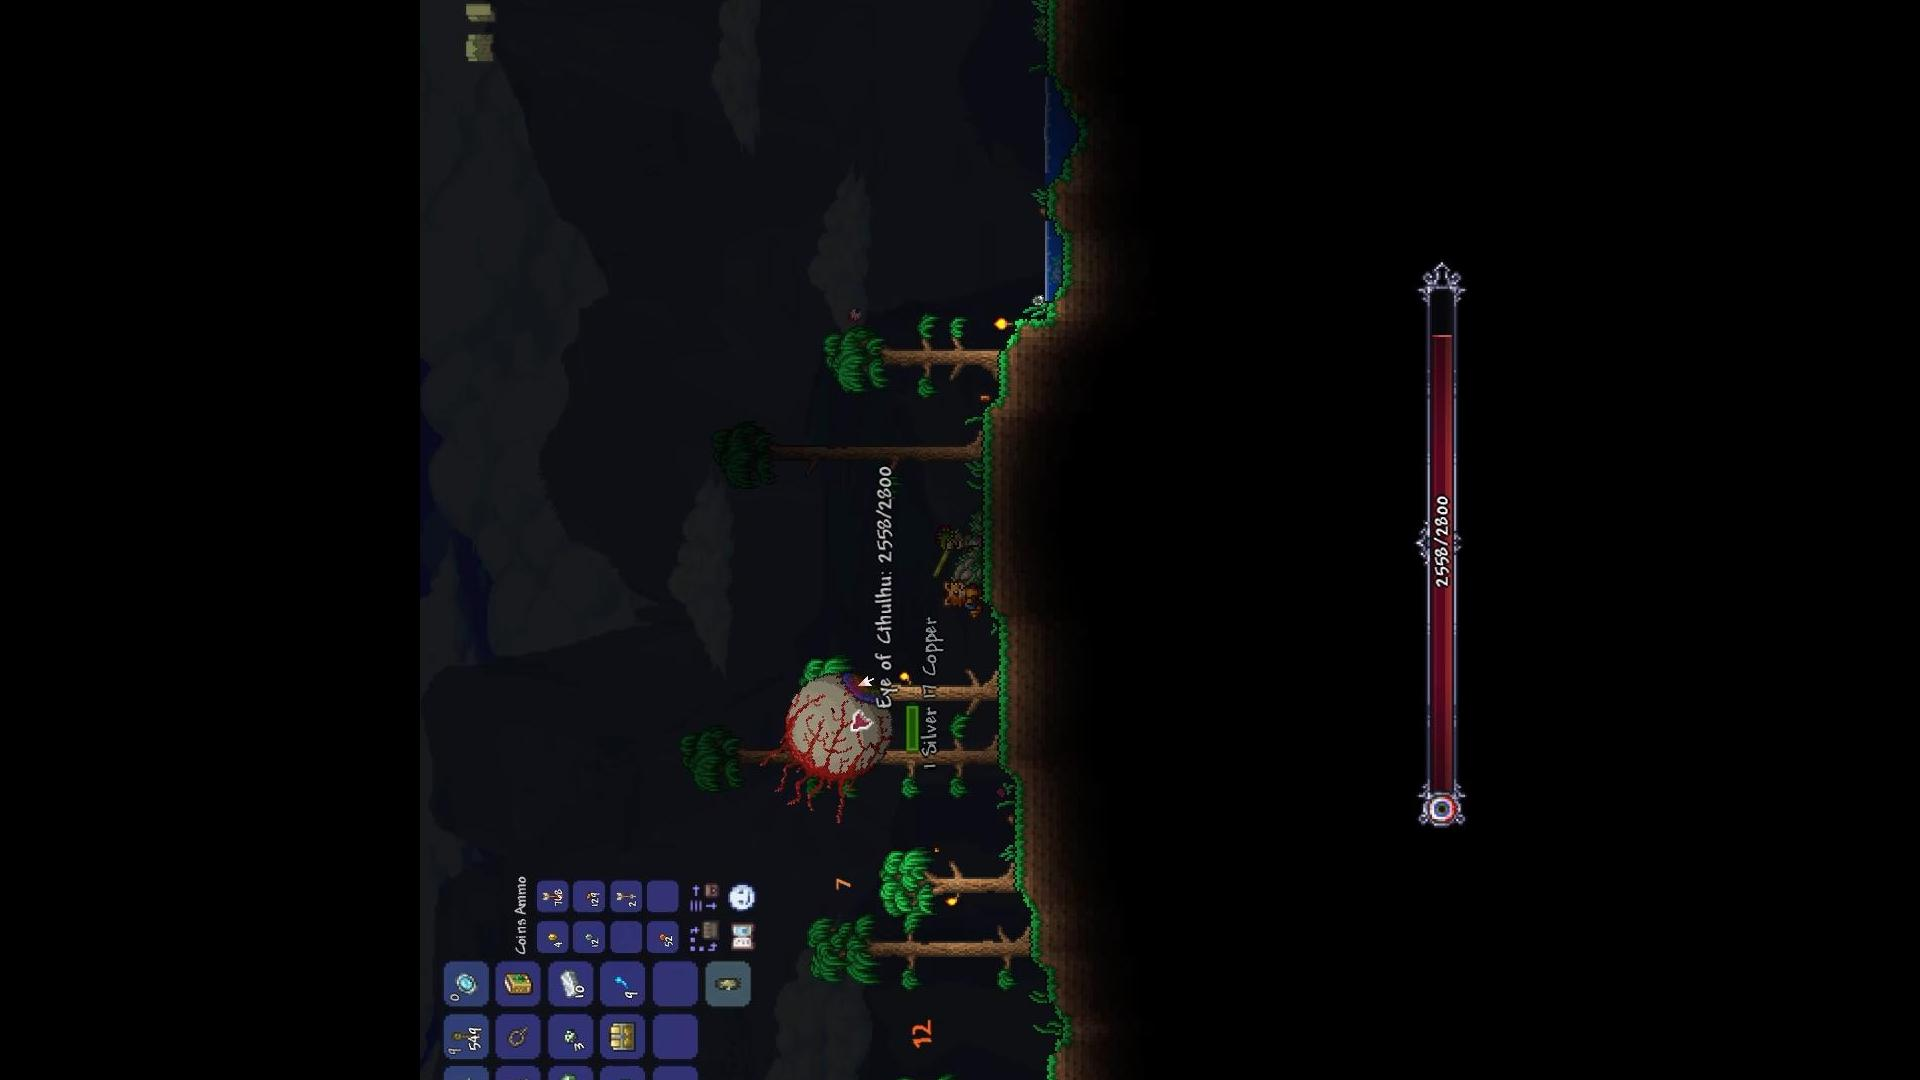dirt: (992, 613, 1056, 947), (981, 392, 1022, 632), (1025, 938, 1091, 1043), (1039, 36, 1075, 214), (997, 309, 1051, 415), (1055, 216, 1077, 305), (1035, 1040, 1083, 1080)
